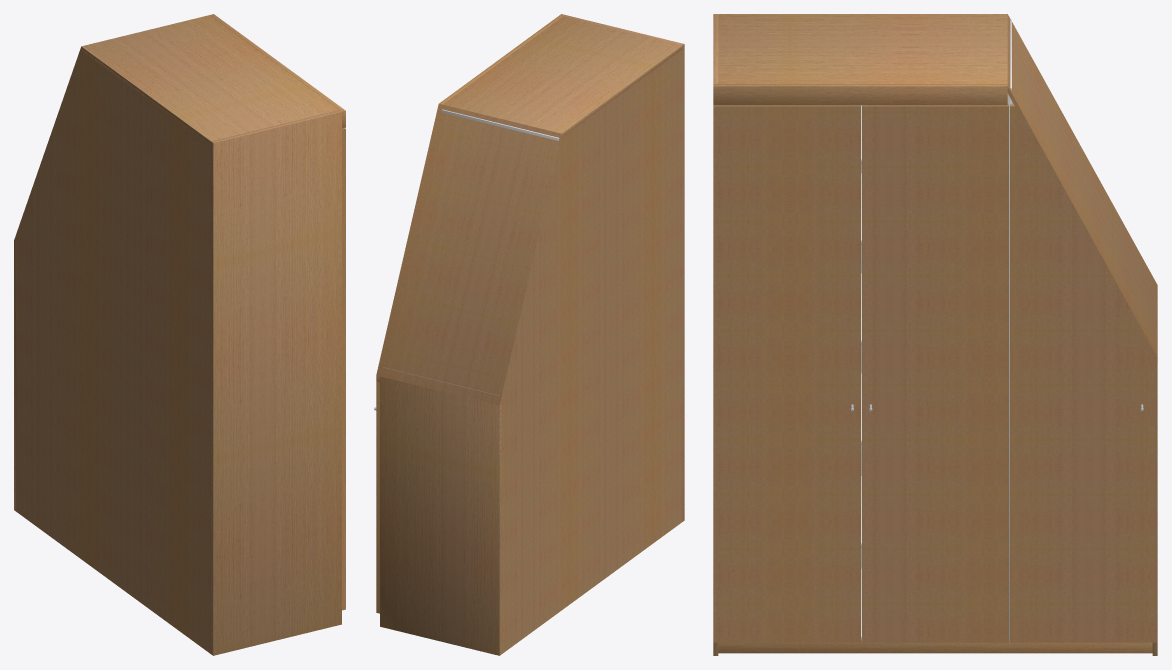
File: recPNMpMH6Yl8azzB.glb
3 views of the same model, side by side, from view 1: azimuth 30°, elevation 25°; view 2: azimuth 150°, elevation 25°; view 3: azimuth 270°, elevation 25° (orthographic). The views are drawn at different scales.
Parts seen in each view (by area): view 1: Armoire_Chambre_Corps; view 2: Armoire_Chambre_Corps; view 3: Armoire_Chambre_Corps.
Boxes of the visible parts, bbox=[...] form: Armoire_Chambre_Corps: bbox=[14, 14, 345, 655]; Armoire_Chambre_Corps: bbox=[374, 14, 684, 655]; Armoire_Chambre_Corps: bbox=[713, 14, 1157, 655].
Bounding box in the file's own units: 0.6919 × 2.4 × 1.69.
3 materials, 2 textured.
